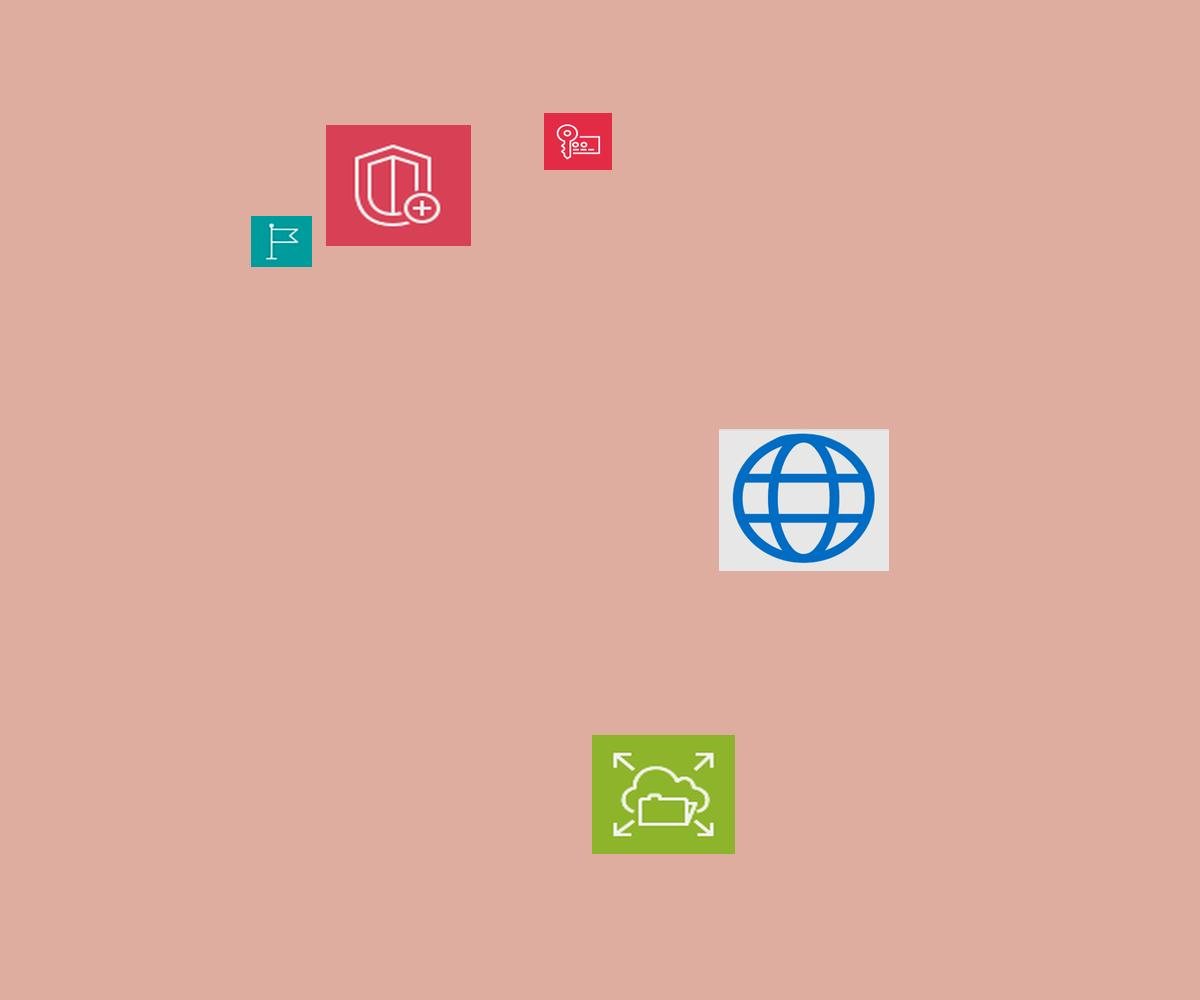AWS-EFS: (592, 735, 735, 854)
AWS-Key-Management-Service: (544, 113, 612, 170)
AWS-Region: (251, 216, 312, 267)
AWS-Shield: (326, 125, 471, 246)
Azure_http: (719, 429, 889, 571)
